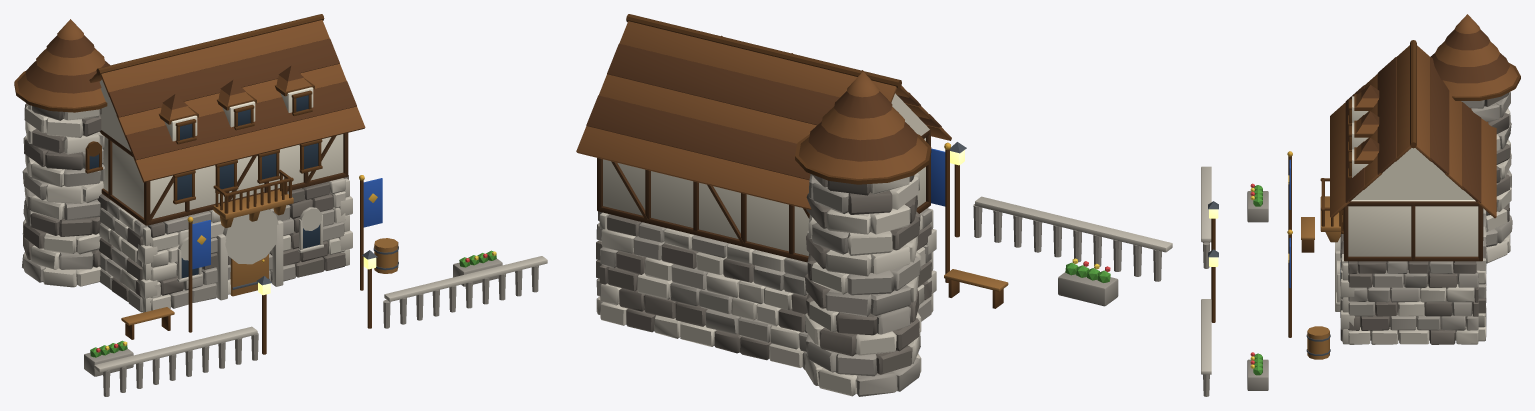
The model's file is budynek_glowny_poz13.glb.
3 views of the same model, side by side, from view 1: azimuth 30°, elevation 25°; view 2: azimuth 150°, elevation 25°; view 3: azimuth 270°, elevation 25° (orthographic). The views are drawn at different scales.
Parts seen in each view (by area): view 1: budynek_glowny_poz13; view 2: budynek_glowny_poz13; view 3: budynek_glowny_poz13.
Part boxes in pixels (x1,y1,x2,y2): budynek_glowny_poz13: (14, 14, 547, 396); budynek_glowny_poz13: (576, 14, 1172, 396); budynek_glowny_poz13: (1201, 14, 1520, 396).
Bounding box in the file's own units: 13.6 × 7.24 × 8.98.
